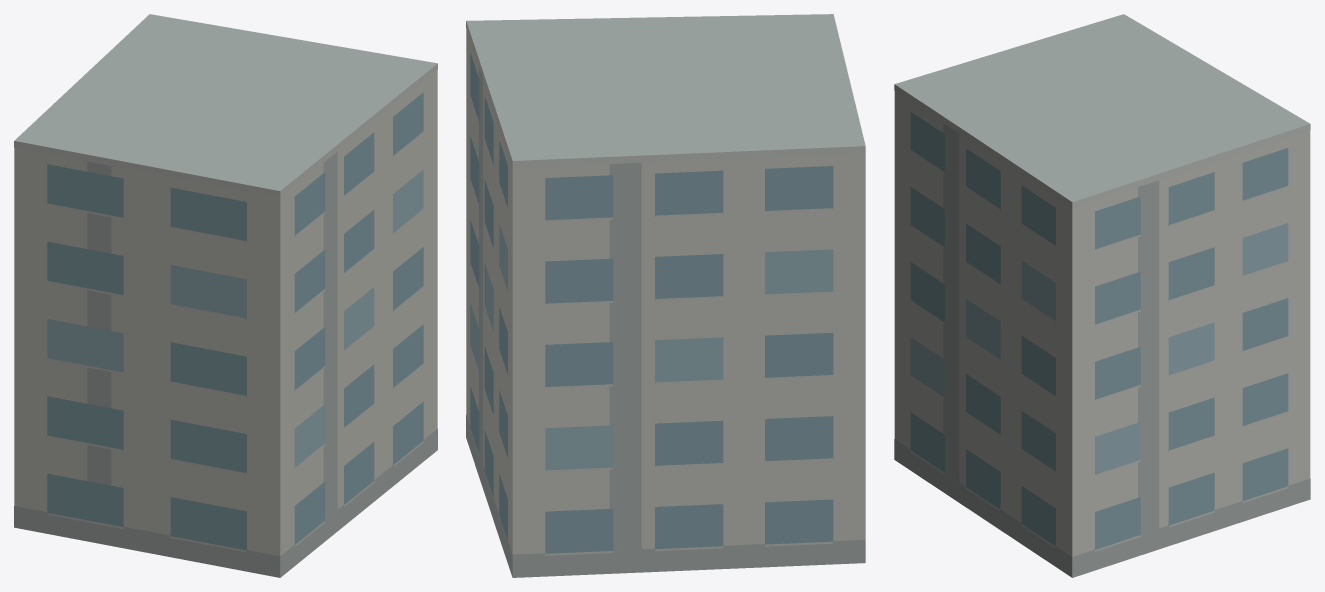
File: survey-upis-32843866.glb
The picture shows the model from 3 angles, left to right: view 1: azimuth 30°, elevation 25°; view 2: azimuth 150°, elevation 25°; view 3: azimuth 270°, elevation 25°; orthographic projection. The views are drawn at different scales.
Visible parts, largest first — view 1: survey-upis-32843866.tmp; view 2: survey-upis-32843866.tmp; view 3: survey-upis-32843866.tmp.
Part boxes in pixels (x1,y1,x2,y2): survey-upis-32843866.tmp: (14, 14, 437, 577); survey-upis-32843866.tmp: (466, 14, 865, 577); survey-upis-32843866.tmp: (894, 14, 1310, 577).
Size of the model in its own units: 14.94 by 13.9 by 13.96.
